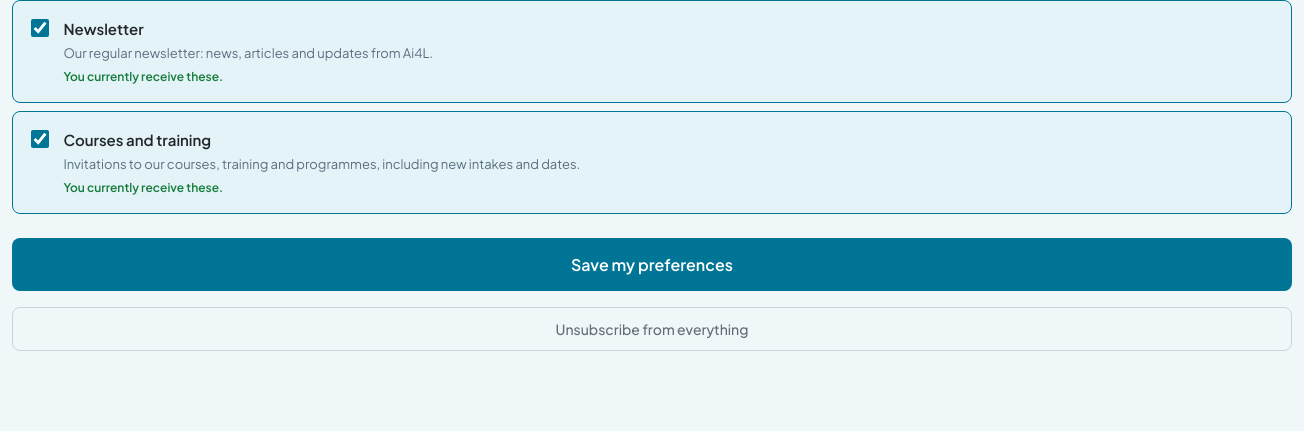
Scenario: PreferencesForm › says plainly when no email will follow
The width and height of the screenshot is (1304, 431).
Click the button with test id "unsubscribe-all" at (652, 329), box [12, 307, 1292, 351]
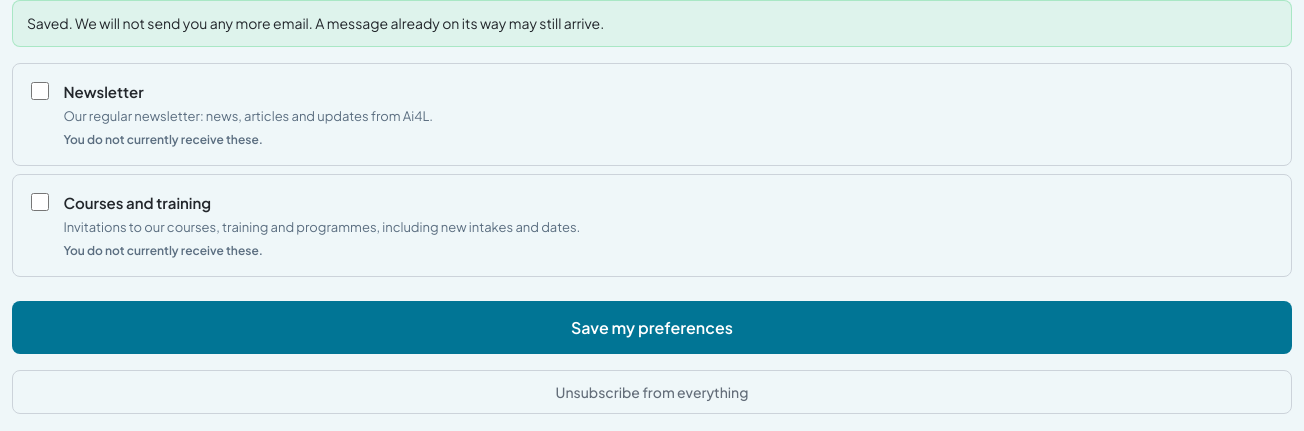
Result: the message with test id "preferences-saved" shows "will not send you any more email" at [27, 14, 604, 32]
Result: the message with test id "preferences-saved" shows "already on its way" at [27, 14, 604, 32]
